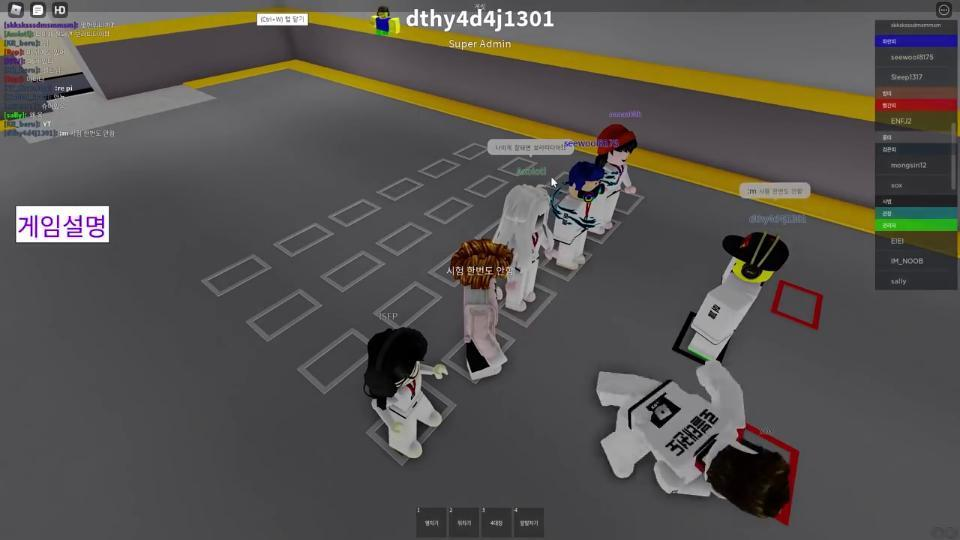Character: (597, 358, 792, 519), (687, 232, 788, 359), (365, 328, 449, 458), (451, 240, 512, 377), (495, 184, 557, 312), (588, 125, 637, 235), (554, 162, 603, 269)
